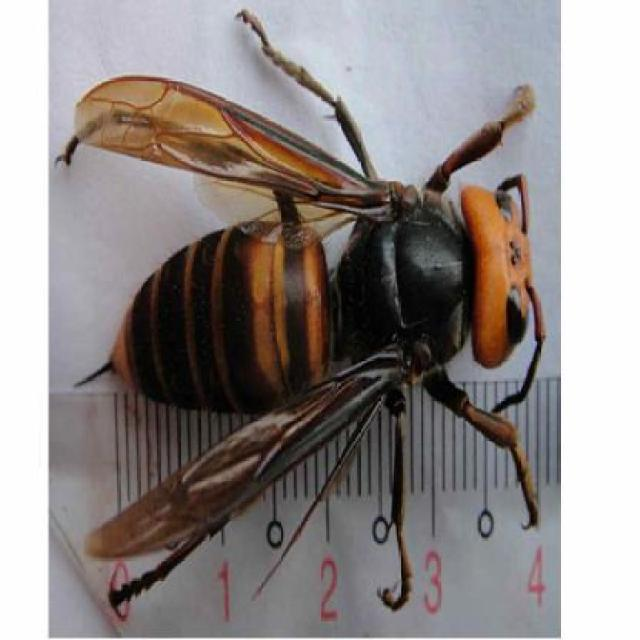Wasp: (66, 0, 554, 612)
